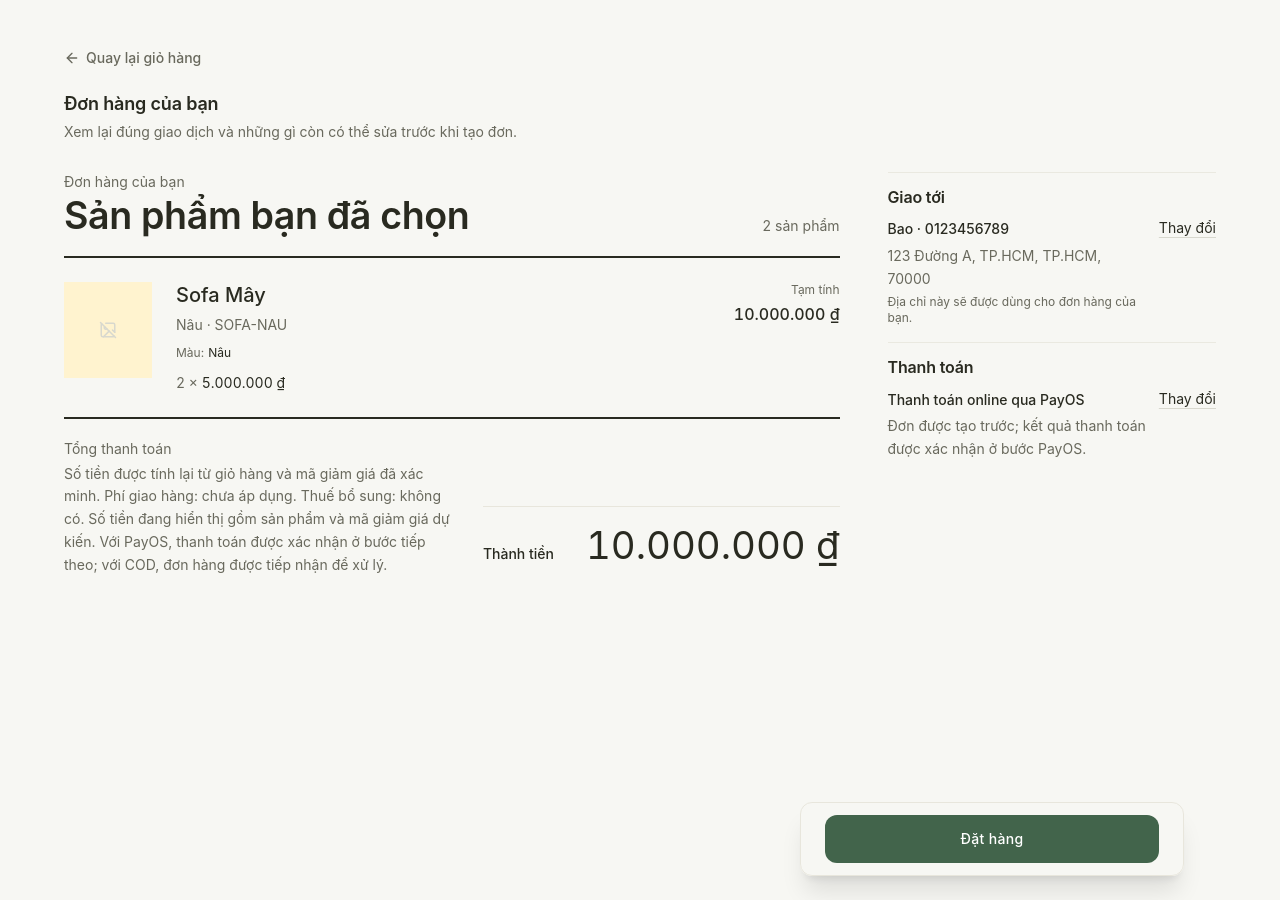
Scenario: CheckoutPage › shows only the selected payment clause at rest and reveals alternatives on explicit change
The image size is (1280, 900).
Expected: the text "Sofa Mây" is shown, [176,283,266,307]
Expected: the text "Thanh toán online qua PayOS" is shown, [888,391,1084,408]
What coordinates should you click on to do the following:
click the button "Thay đổi" next to "Thanh toán online qua PayOS"
I would click on:
 (1187, 399)
Its box is [1159,389,1216,409].
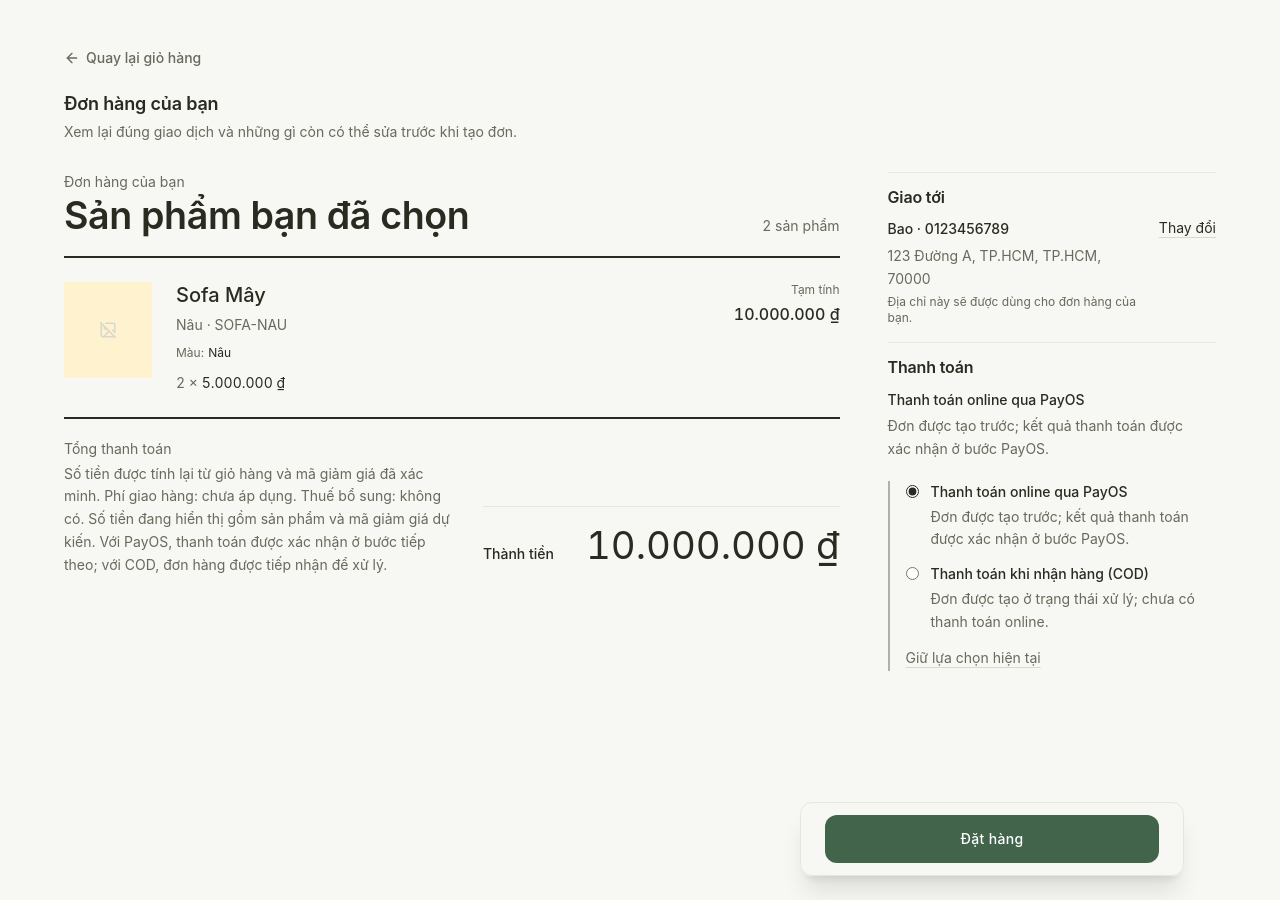
What coordinates should you click on to do the following:
click the radio button labelled "COD"
I would click on:
 (912, 574)
Its box is [906,567,918,580].
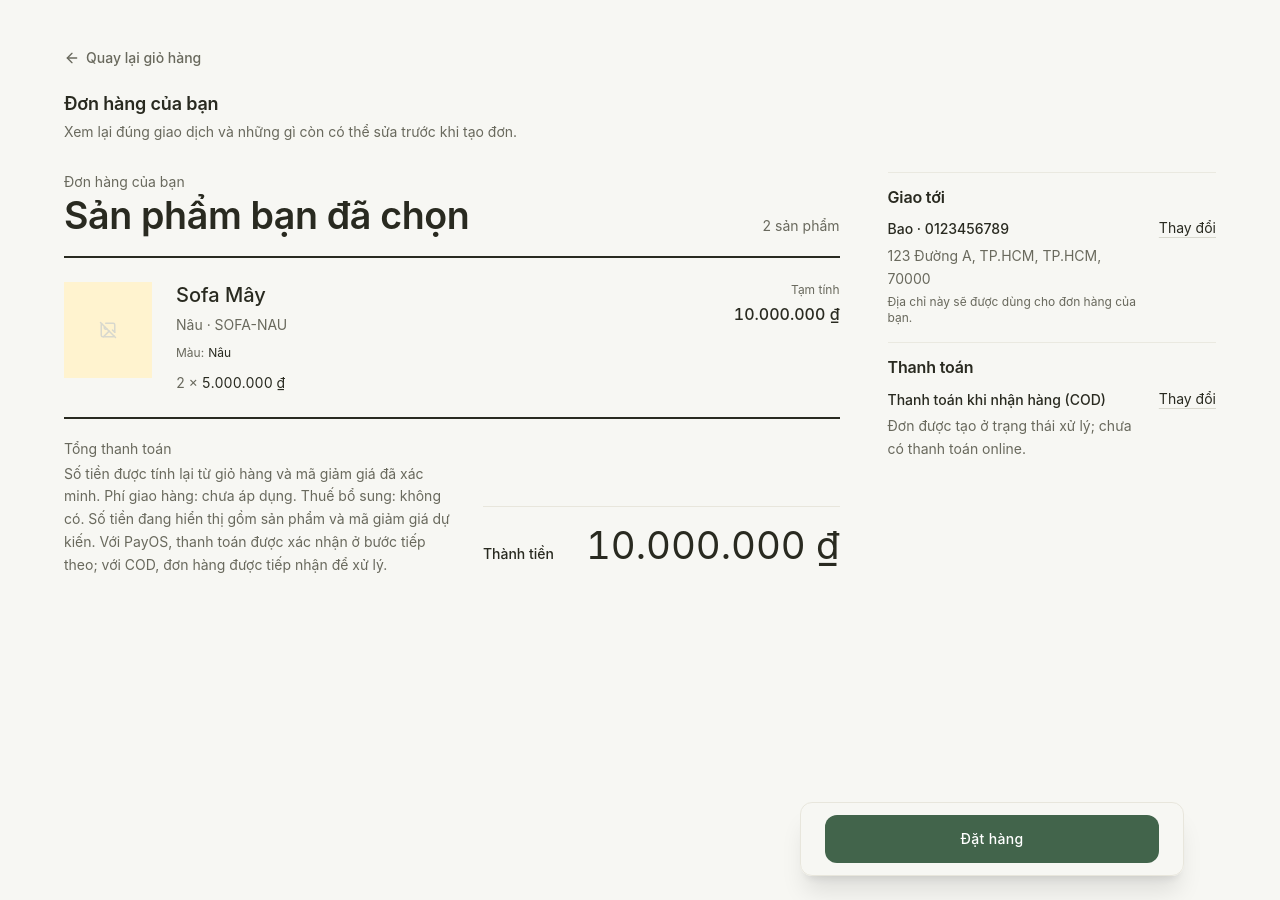
Expected: the text "Thanh toán khi nhận hàng (COD)" is shown, [888,391,1106,408]
Expected: the radio button is gone
